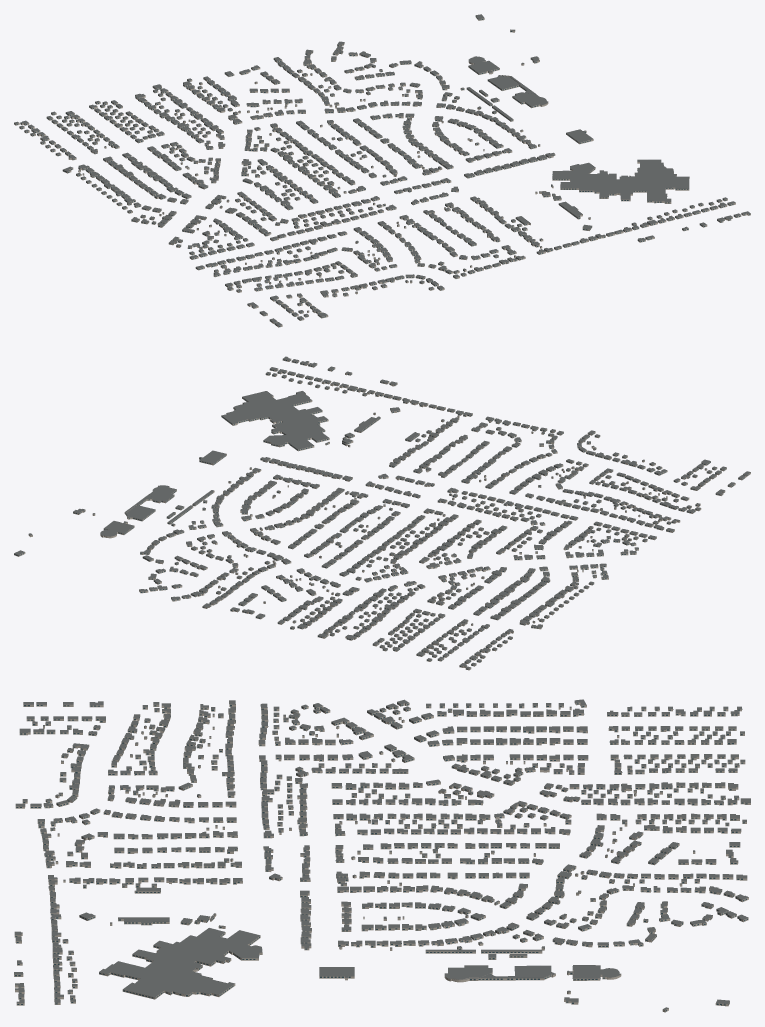
3 views of the same model, one above another, from view 1: azimuth 30°, elevation 25°; view 2: azimuth 150°, elevation 25°; view 3: azimuth 270°, elevation 25° (orthographic). The views are drawn at different scales.
Parts seen in each view (by area): view 1: Buildings (0, -5) Roof membrane, Buildings (0, -5) Masonry brick, Buildings (0, -5) Architectural tinted glass, Buildings (0, -5) Metal coping; view 2: Buildings (0, -5) Roof membrane, Buildings (0, -5) Masonry brick, Buildings (0, -5) Architectural tinted glass, Buildings (0, -5) Metal coping; view 3: Buildings (0, -5) Roof membrane, Buildings (0, -5) Masonry brick, Buildings (0, -5) Architectural tinted glass, Buildings (0, -5) Metal coping.
Boxes of the visible parts, bbox=[...] form: Buildings (0, -5) Roof membrane: bbox=[14, 14, 750, 325]; Buildings (0, -5) Masonry brick: bbox=[14, 16, 750, 327]; Buildings (0, -5) Architectural tinted glass: bbox=[14, 16, 750, 326]; Buildings (0, -5) Metal coping: bbox=[20, 14, 750, 318]; Buildings (0, -5) Roof membrane: bbox=[14, 356, 750, 668]; Buildings (0, -5) Masonry brick: bbox=[14, 357, 750, 670]; Buildings (0, -5) Architectural tinted glass: bbox=[14, 359, 749, 669]; Buildings (0, -5) Metal coping: bbox=[15, 360, 750, 656]; Buildings (0, -5) Roof membrane: bbox=[14, 699, 750, 1009]; Buildings (0, -5) Masonry brick: bbox=[14, 701, 750, 1012]; Buildings (0, -5) Architectural tinted glass: bbox=[15, 702, 747, 1011]; Buildings (0, -5) Metal coping: bbox=[15, 699, 750, 1003].
Size of the model in its own units: 1008 by 6.57 by 1013.
